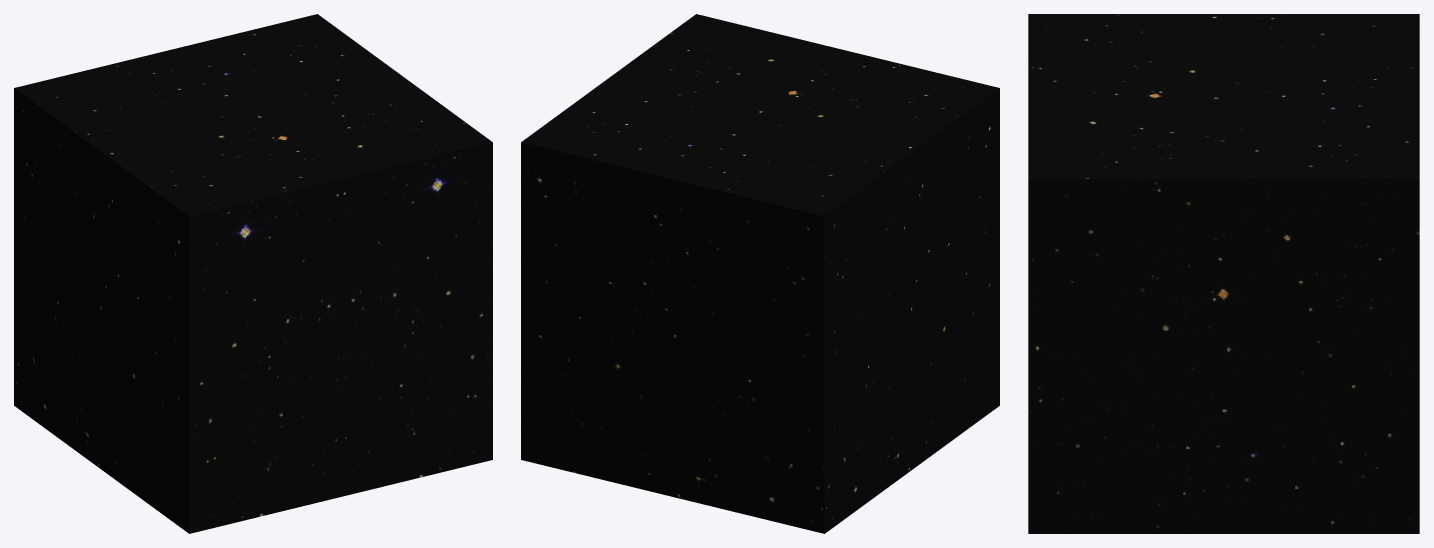
File: skybox.obj
3 renders of one model, left to right at view 1: azimuth 30°, elevation 25°; view 2: azimuth 150°, elevation 25°; view 3: azimuth 270°, elevation 25°, orthographic. The views are drawn at different scales.
Visible parts, largest first — view 1: sky; view 2: sky; view 3: sky.
Part boxes in pixels (x1,y1,x2,y2): sky: (14, 14, 492, 533); sky: (521, 14, 999, 533); sky: (1028, 14, 1419, 533).
Size of the model in its own units: 2 by 2 by 2.
1 material, 1 textured.
